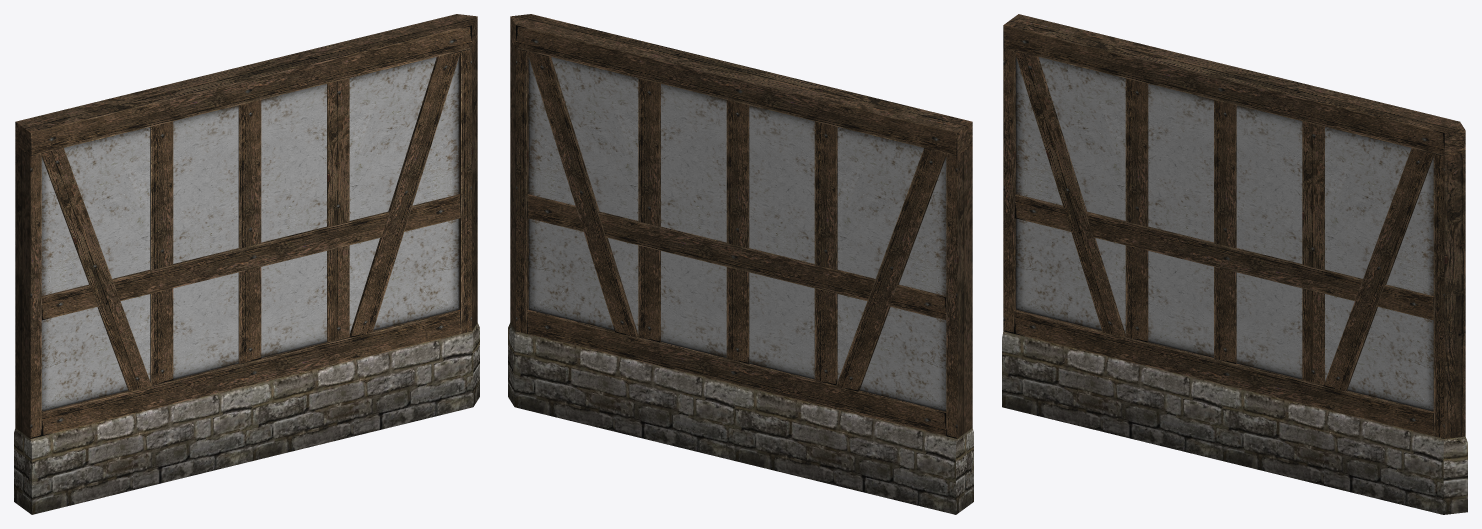
Rendered from timberWall.dae.
3 views of the same model, side by side, from view 1: azimuth 30°, elevation 25°; view 2: azimuth 150°, elevation 25°; view 3: azimuth 330°, elevation 25° (orthographic).
Parts seen in each view (by area): view 1: TimberWall; view 2: TimberWall; view 3: TimberWall.
Boxes of the visible parts, x1,y1,x2,y2 form: TimberWall: (14,14,479,514); TimberWall: (508,14,973,514); TimberWall: (1002,14,1467,514).
Size of the model in its own units: 4.14 by 3.3 by 0.28.
1 material, 1 textured.
